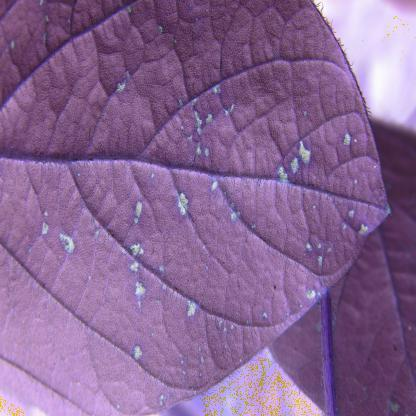Soyabean leaf: (2, 0, 393, 414)
